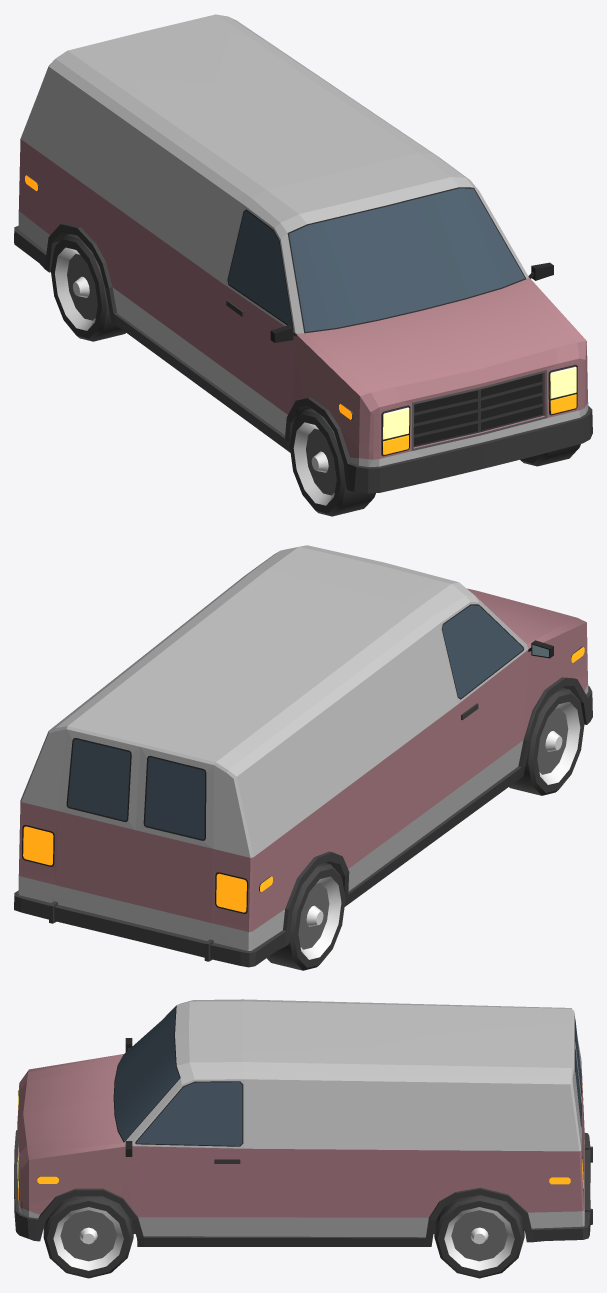
Rendered from N_Van_10.glb.
The picture shows the model from 3 angles, top to bottom: view 1: azimuth 30°, elevation 25°; view 2: azimuth 150°, elevation 25°; view 3: azimuth 270°, elevation 25°; orthographic projection. The views are drawn at different scales.
Visible parts, largest first — view 1: N Van_10, N Van_10 FR Tire, N Van_10 BR Tire; view 2: N Van_10, N Van_10 BR Tire, N Van_10 FR Tire; view 3: N Van_10, N Van_10 BL Tire, N Van_10 FL Tire.
Part boxes in pixels (bbox=[...]): N Van_10: bbox=[14, 14, 592, 493]; N Van_10 FR Tire: bbox=[289, 408, 375, 516]; N Van_10 BR Tire: bbox=[50, 234, 125, 341]; N Van_10: bbox=[14, 545, 592, 967]; N Van_10 BR Tire: bbox=[267, 863, 345, 970]; N Van_10 FR Tire: bbox=[509, 687, 584, 795]; N Van_10: bbox=[14, 999, 592, 1246]; N Van_10 BL Tire: bbox=[434, 1195, 524, 1278]; N Van_10 FL Tire: bbox=[43, 1196, 133, 1278].
Size of the model in its own units: 2.29 by 1.92 by 5.04.
Materials: 2 (2 with a texture image).
